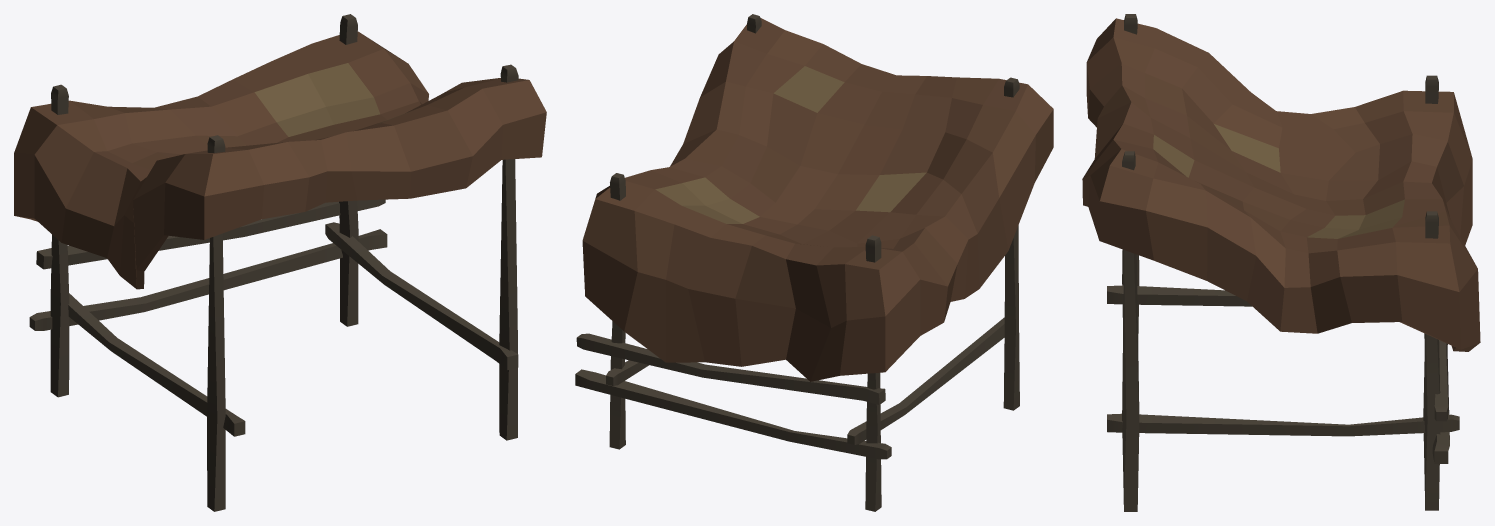
File: SM_Bld_Tent_03.glb
3 views of the same model, side by side, from view 1: azimuth 30°, elevation 25°; view 2: azimuth 150°, elevation 25°; view 3: azimuth 270°, elevation 25° (orthographic). The views are drawn at different scales.
Parts seen in each view (by area): view 1: SM_Bld_Tent_03; view 2: SM_Bld_Tent_03; view 3: SM_Bld_Tent_03.
Part boxes in pixels (box(x1,y1,x2,y2)): SM_Bld_Tent_03: box(14, 14, 546, 511); SM_Bld_Tent_03: box(575, 14, 1053, 511); SM_Bld_Tent_03: box(1082, 14, 1480, 511).
Bounding box in the file's own units: 0.0281 × 0.0269 × 0.0272.
